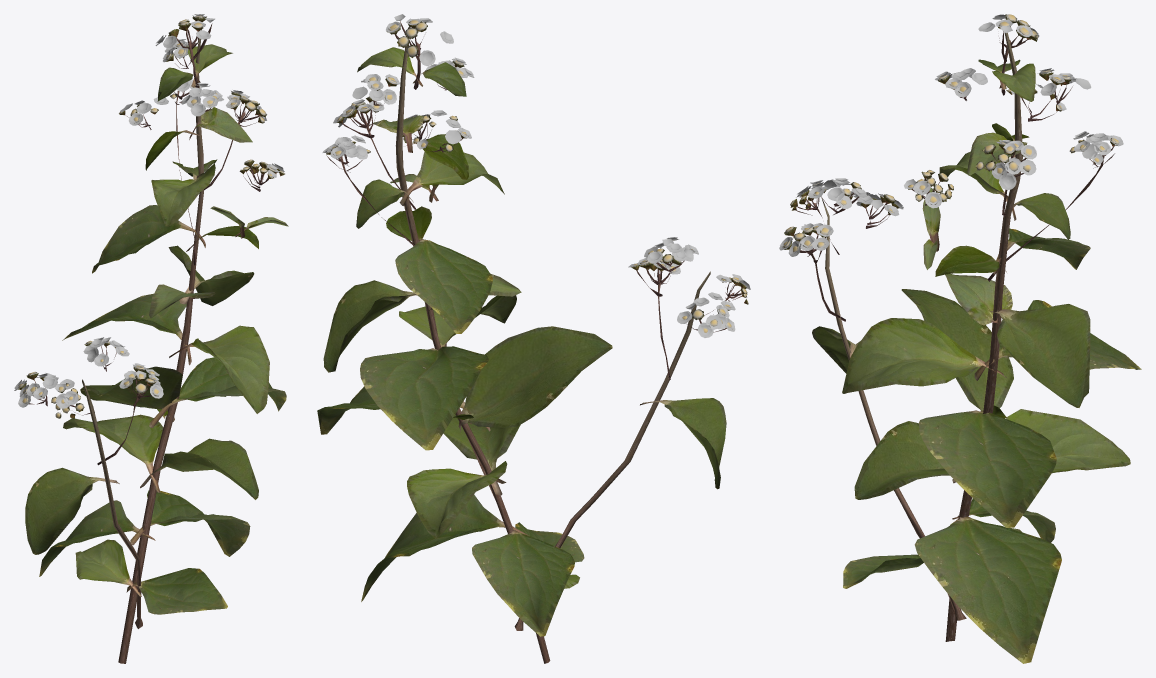
Rendered from shrub_b.glb.
The picture shows the model from 3 angles, left to right: view 1: azimuth 30°, elevation 25°; view 2: azimuth 150°, elevation 25°; view 3: azimuth 270°, elevation 25°; orthographic projection. The views are drawn at different scales.
Visible parts, largest first — view 1: shrub_b; view 2: shrub_b; view 3: shrub_b.
Part boxes in pixels (box(x1,y1,x2,y2)): shrub_b: box(14, 14, 288, 663); shrub_b: box(317, 14, 750, 663); shrub_b: box(779, 14, 1141, 663).
Bounding box in the file's own units: 0.2406 × 0.4266 × 0.2075.
Materials: 1 (1 with a texture image).
